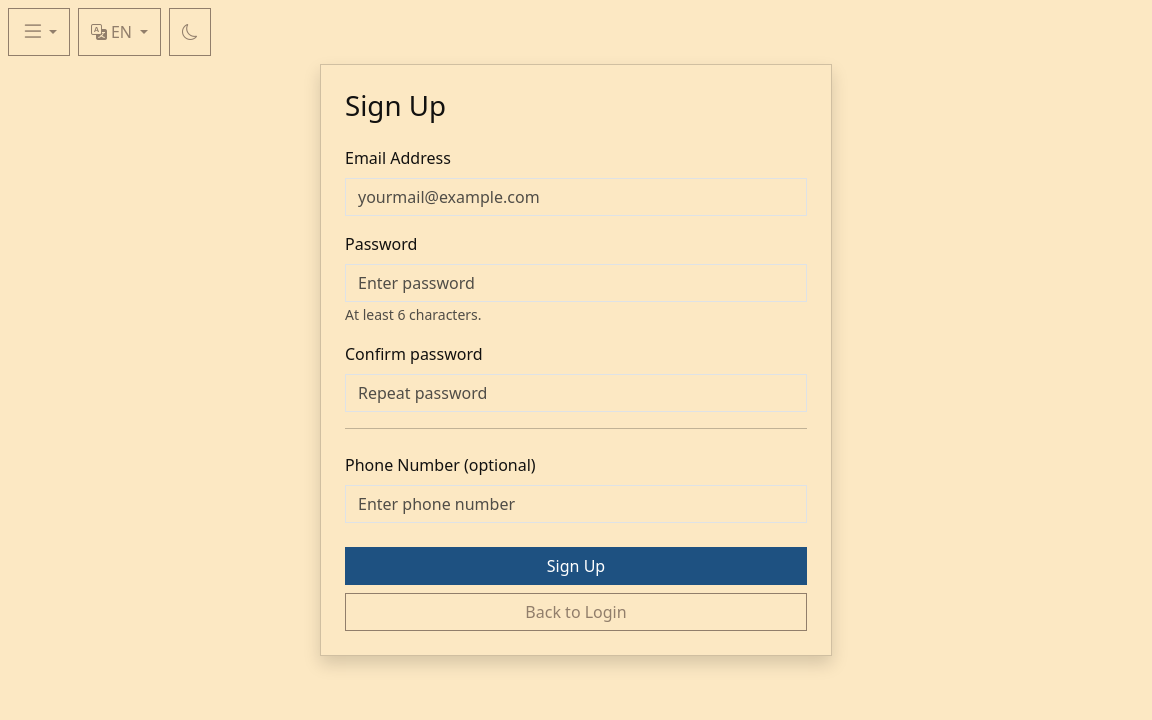
Test: SignUp › rejects mismatched passwords without sending a request
Type "new@example.com" into the field labelled "Email Address" at (576, 197), box [345, 178, 807, 216]
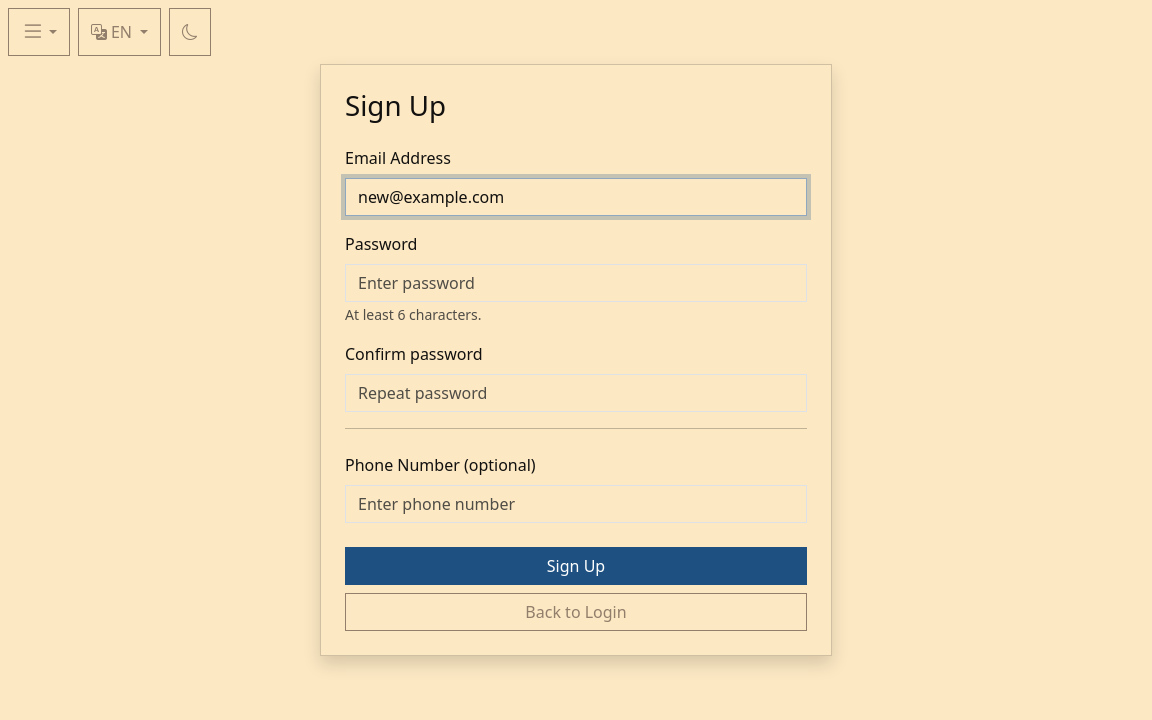
Type "password123" into the password field labelled "Password" at (576, 283), box [345, 264, 807, 302]
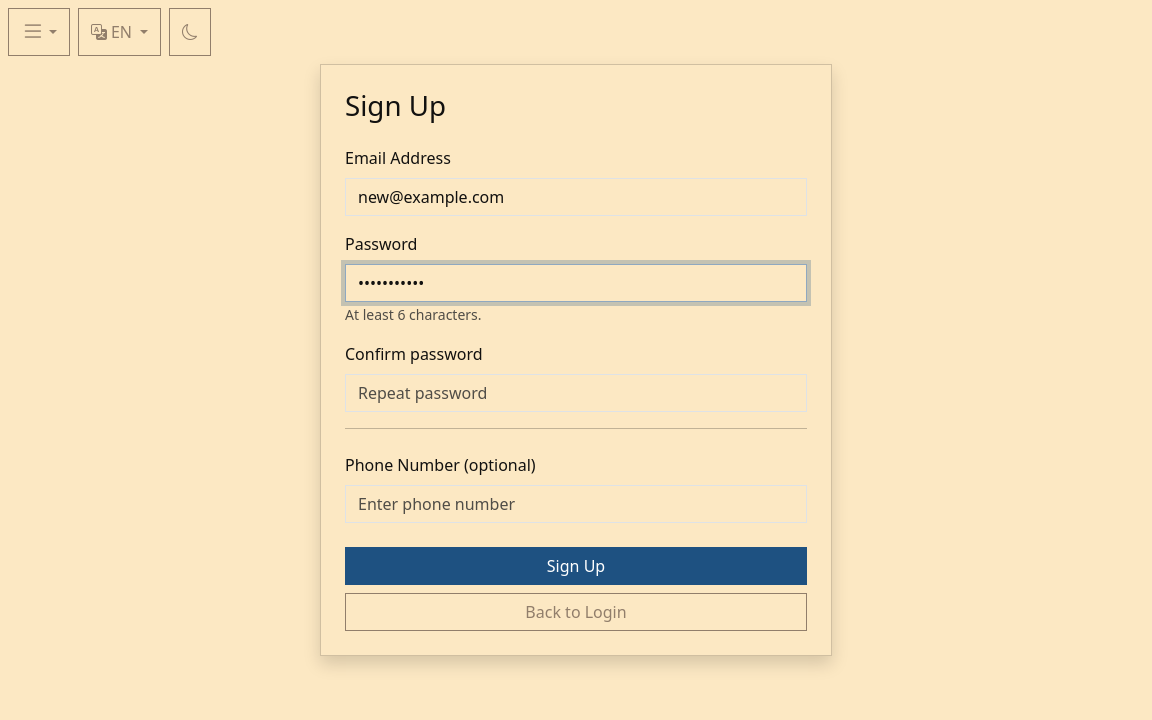
Type "different123" into the password field labelled "Confirm password" at (576, 393), box [345, 374, 807, 412]
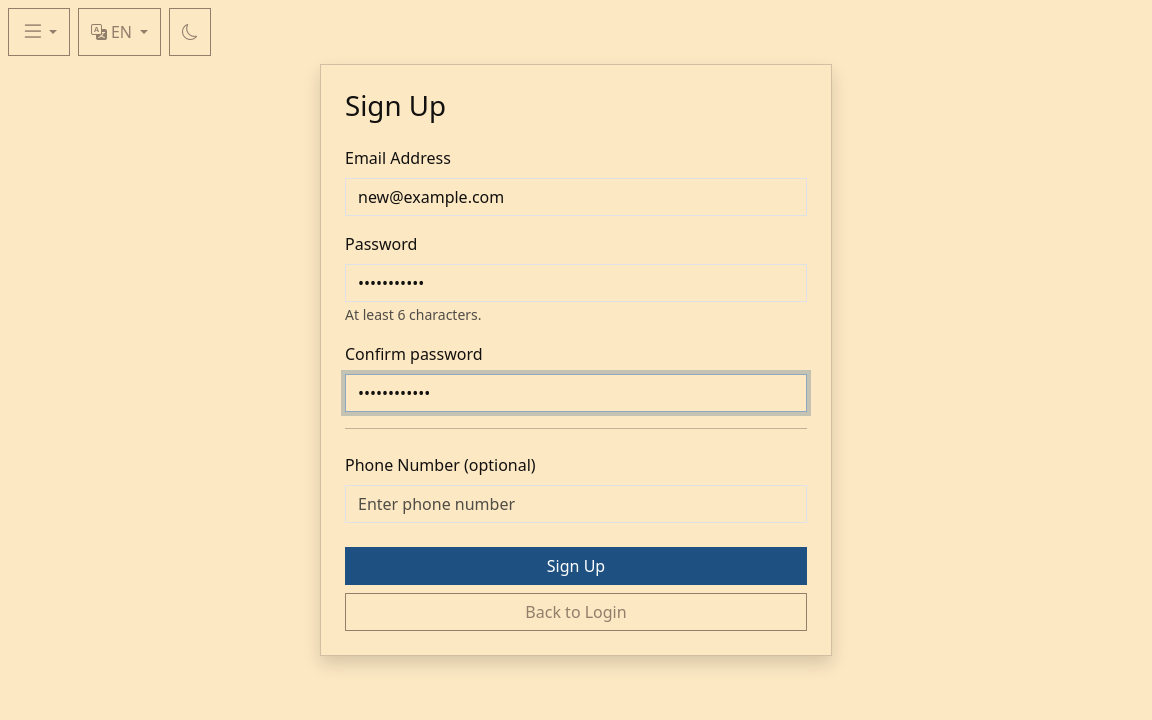
Click the button "Sign Up" at (576, 566), box [345, 547, 807, 585]
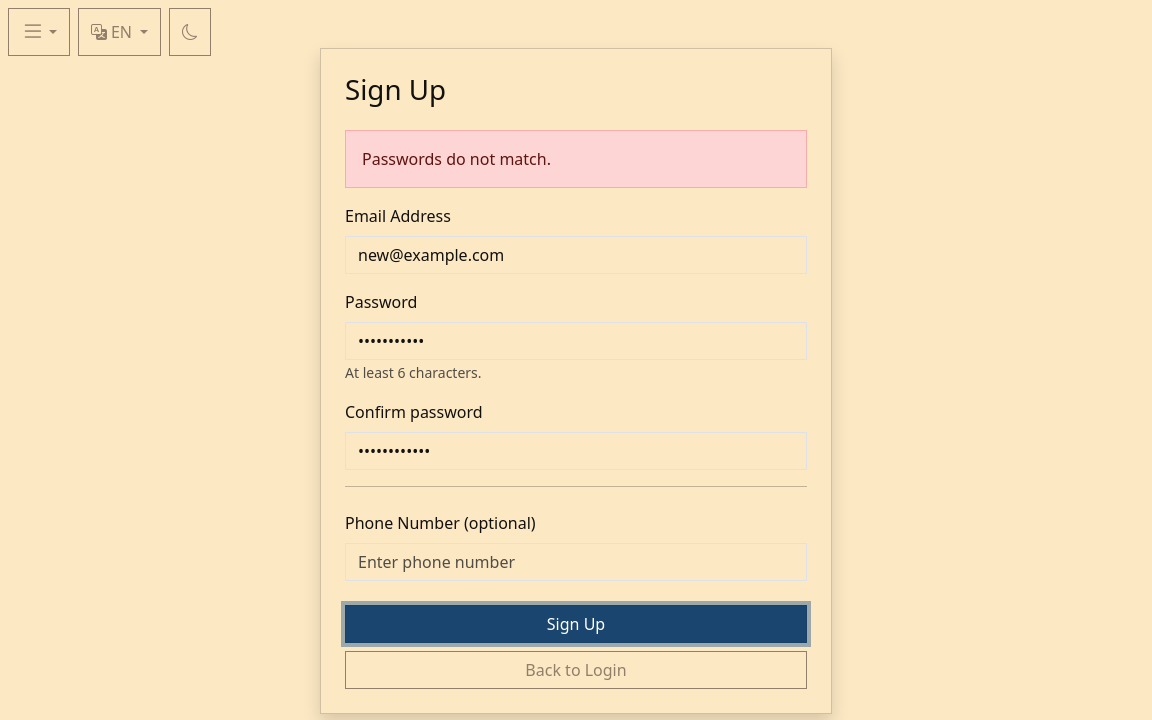
Result: the text "Passwords do not match." is shown at [345, 130, 807, 188]
